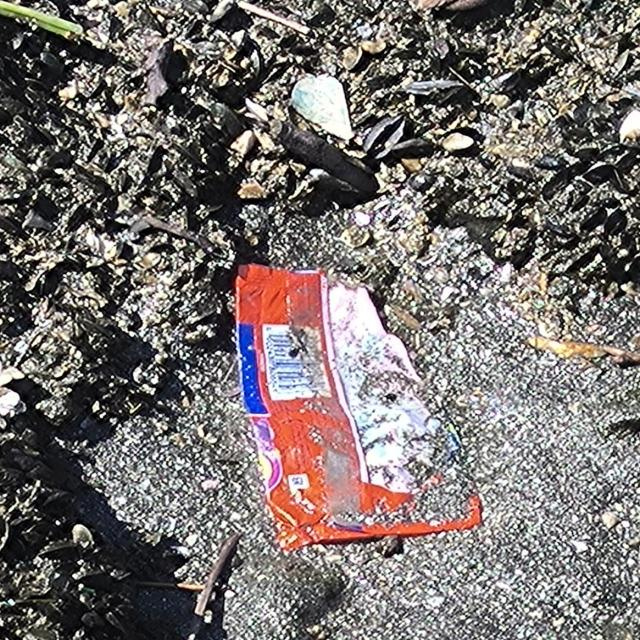plastic_waste: (236, 265, 484, 549)
